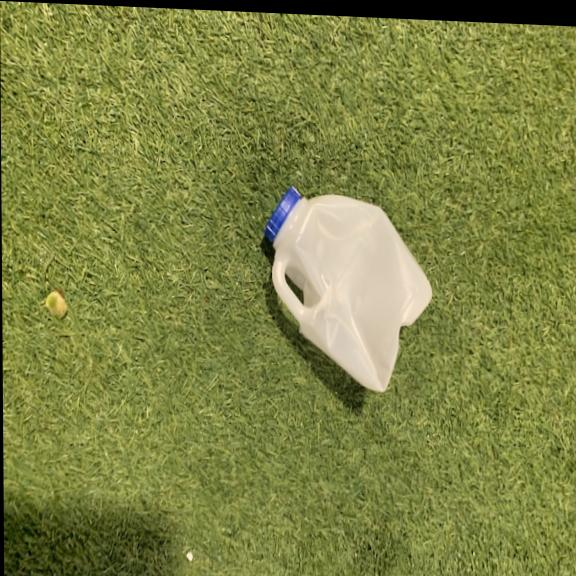Plastik: (255, 178, 439, 402)
